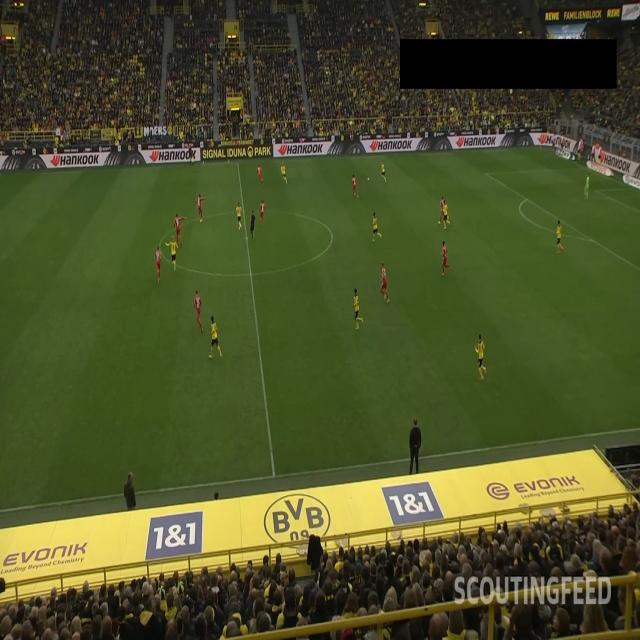ball: (366, 176, 370, 182)
